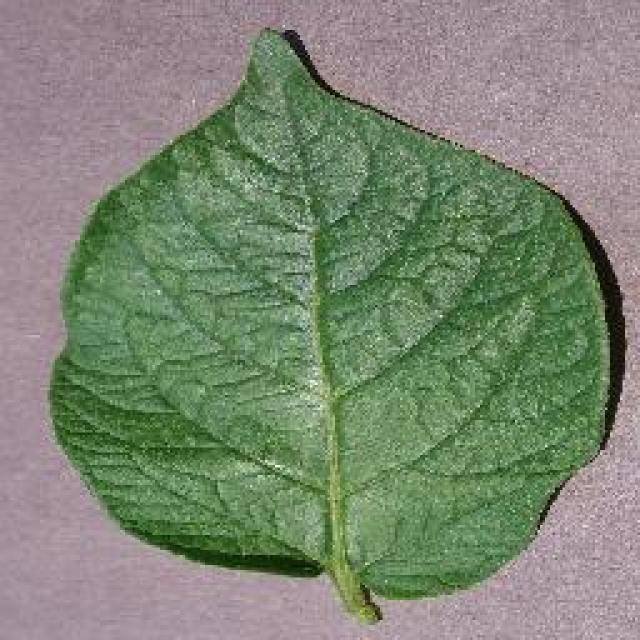Potato: (45, 22, 625, 622)
